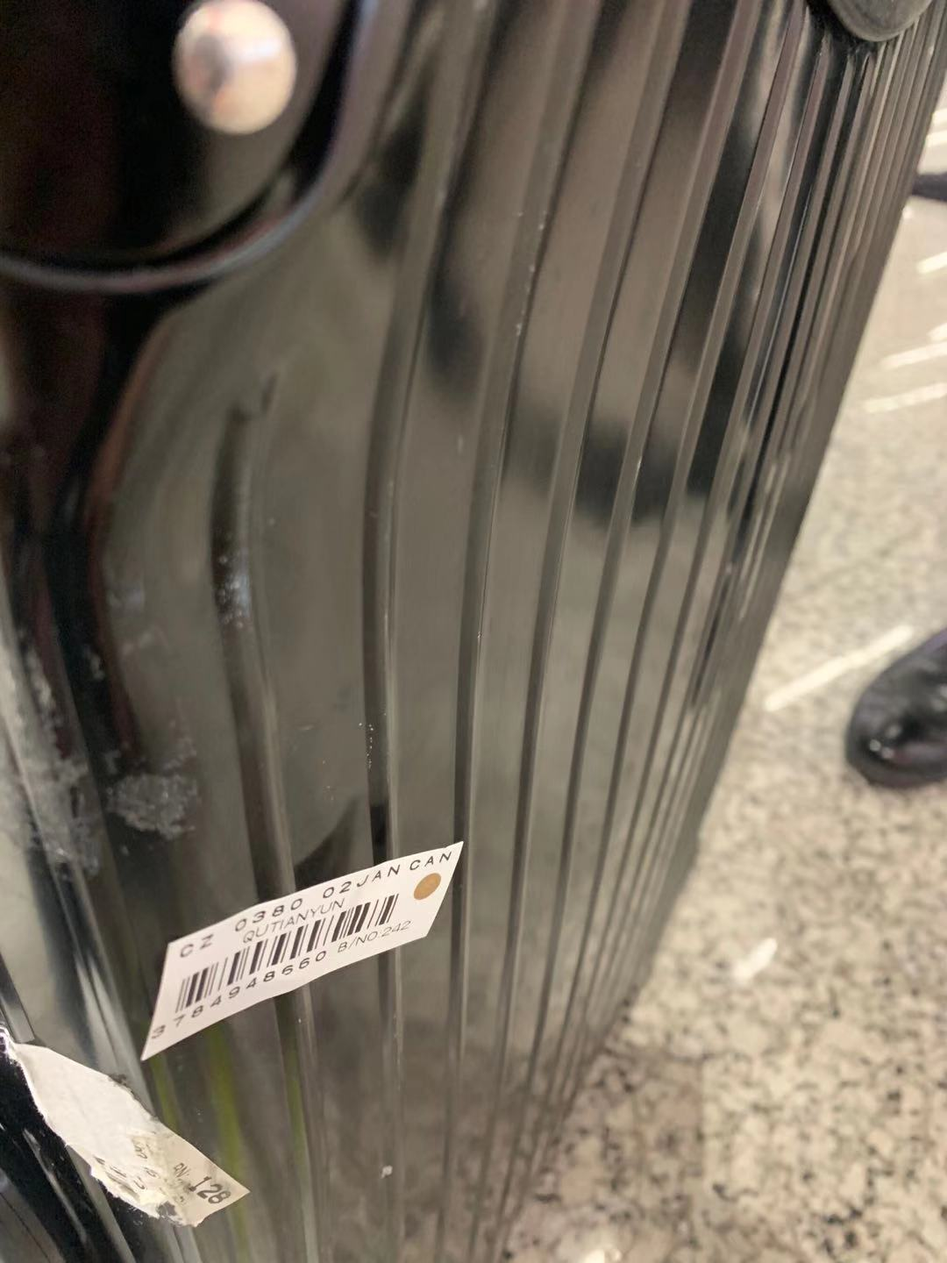rupture: (53, 280, 364, 722)
